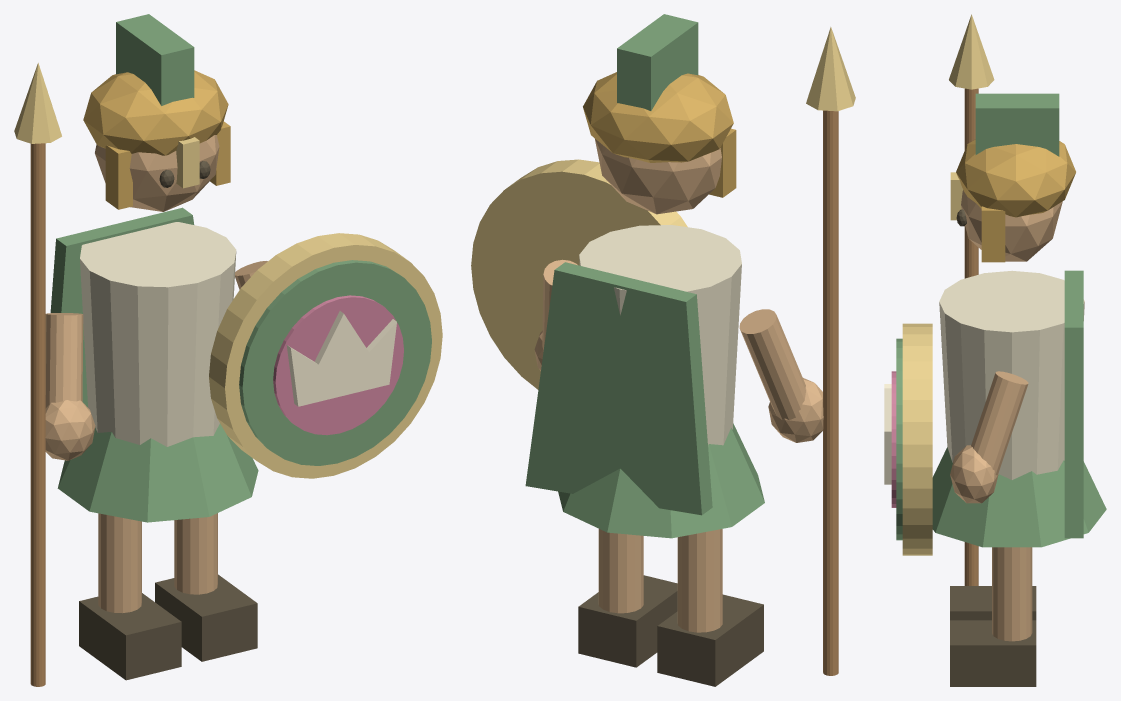
The model's file is miniature.glb.
3 views of the same model, side by side, from view 1: azimuth 30°, elevation 25°; view 2: azimuth 150°, elevation 25°; view 3: azimuth 270°, elevation 25° (orthographic). The views are drawn at different scales.
Visible parts, largest first — view 1: Linen cuirass.002, Shield face.014, Shield rim.006, Pleated green skirt.002, Spear shaft.007, Bronze helmet.007, Shield face.015, Sandal.012, Crown relief.007, Sandal.013, Green crest.005, Leg.010 (+9 smaller); view 2: Cape.006, Shield rim.006, Linen cuirass.002, Bronze helmet.007, Pleated green skirt.002, Spear shaft.007, Sandal.012, Green crest.005, Sandal.013, Face.007, Leg.010, Arm.012 (+5 smaller); view 3: Linen cuirass.002, Pleated green skirt.002, Shield rim.006, Bronze helmet.007, Cape.006, Sandal.013, Green crest.005, Leg.011, Arm.013, Face.007, Hand.015, Spear shaft.007 (+7 smaller).
Boxes of the visible parts, x1,y1,x2,y2 form: Linen cuirass.002: (80,222,236,446); Shield face.014: (239,260,431,465); Shield rim.006: (209,233,442,478); Pleated green skirt.002: (57,423,258,522); Spear shaft.007: (30,143,45,686); Bronze helmet.007: (83,70,228,155); Shield face.015: (273,295,403,435); Sandal.012: (79,593,181,680); Crown relief.007: (286,311,396,406); Sandal.013: (155,574,257,661); Green crest.005: (116,14,194,105); Leg.010: (98,513,141,613); Cape.006: (525,262,712,515); Shield rim.006: (471,159,687,389); Linen cuirass.002: (579,225,741,445); Bronze helmet.007: (583,72,733,162); Pleated green skirt.002: (558,423,764,538); Spear shaft.007: (823,110,838,675); Sandal.012: (657,594,763,686); Green crest.005: (617,14,698,110); Sandal.013: (578,575,677,667); Face.007: (594,138,721,214); Leg.010: (677,529,722,632); Arm.012: (739,309,805,420); Linen cuirass.002: (939,270,1084,479); Pleated green skirt.002: (932,447,1106,547); Shield rim.006: (902,323,932,555); Bronze helmet.007: (956,139,1075,217); Cape.006: (1064,270,1083,538); Sandal.013: (950,620,1036,686); Green crest.005: (975,93,1059,156); Leg.011: (992,547,1032,641); Arm.013: (971,371,1028,475); Face.007: (961,190,1062,261); Hand.015: (950,445,998,503); Spear shaft.007: (964,88,978,585).
Size of the model in its own units: 1.54 by 2.37 by 0.825.
